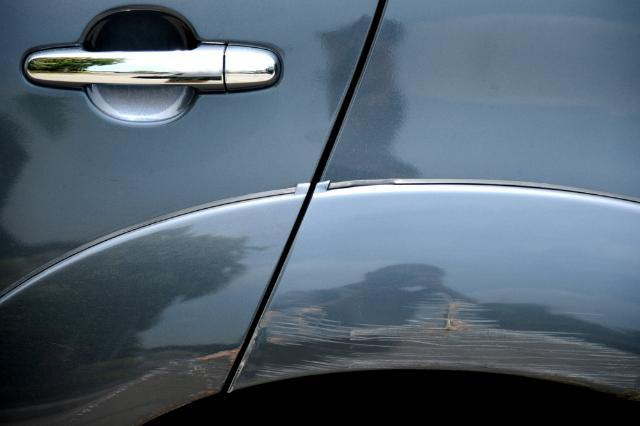scratch: (236, 290, 640, 405), (63, 343, 240, 426)
